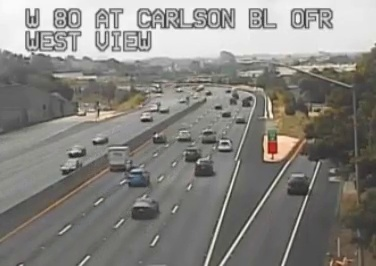car: (131, 199, 158, 220), (286, 174, 308, 195), (126, 168, 148, 186), (194, 158, 213, 174), (184, 147, 200, 162), (217, 139, 232, 151), (201, 130, 215, 142), (152, 133, 164, 143)
small-truck: (106, 146, 132, 171)
